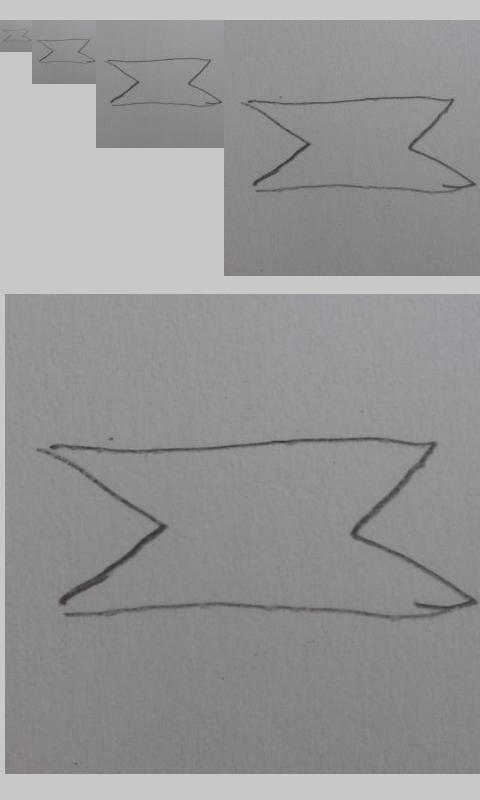edit_text: (41, 435, 474, 620), (245, 95, 477, 195), (105, 57, 223, 108), (36, 38, 95, 64), (3, 29, 31, 42)
